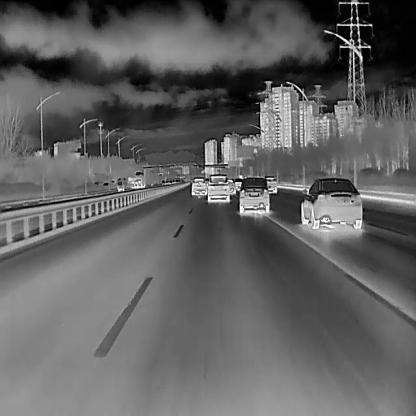car: (300, 177, 363, 229), (239, 176, 269, 213), (206, 173, 230, 202), (191, 176, 207, 195), (264, 176, 277, 194), (133, 171, 146, 188), (226, 178, 236, 194), (234, 178, 243, 189), (102, 181, 110, 186), (171, 178, 175, 184), (161, 180, 165, 185), (165, 180, 168, 185), (169, 179, 172, 184), (175, 177, 177, 183)
